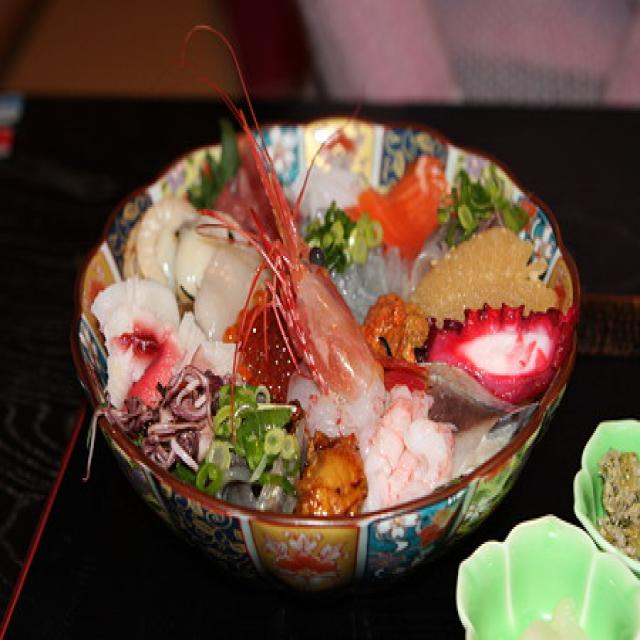刺身生食: (73, 96, 580, 582)
